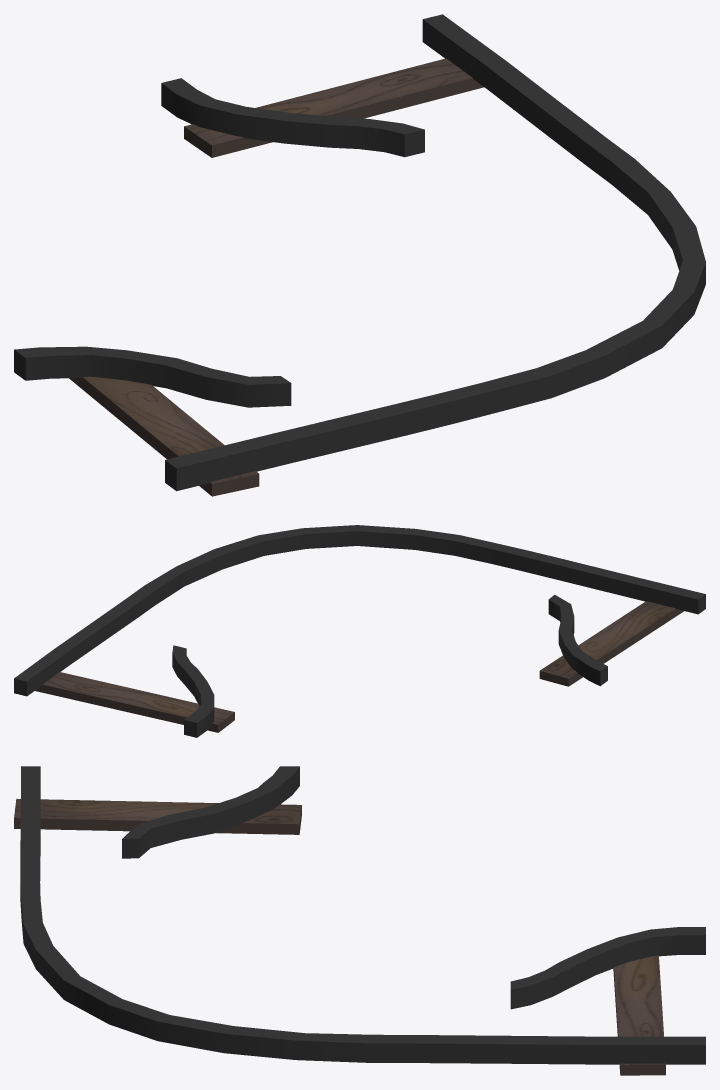
File: minecart_L90Rail_Model.fbx
The picture shows the model from 3 angles, top to bottom: view 1: azimuth 30°, elevation 25°; view 2: azimuth 150°, elevation 25°; view 3: azimuth 270°, elevation 25°; orthographic projection. The views are drawn at different scales.
Parts seen in each view (by area): view 1: minecart_L90Rail_Mesh; view 2: minecart_L90Rail_Mesh; view 3: minecart_L90Rail_Mesh.
Boxes of the visible parts, x1,y1,x2,y2 form: minecart_L90Rail_Mesh: (14,14,705,496); minecart_L90Rail_Mesh: (14,525,705,737); minecart_L90Rail_Mesh: (14,766,705,1075).
Bounding box in the file's own units: 36.07 × 1.77 × 37.67.
Materials: 1 (1 with a texture image).
